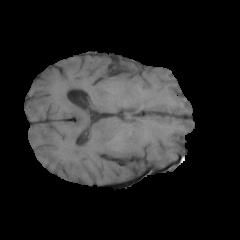glioma: (59, 57, 151, 119)
